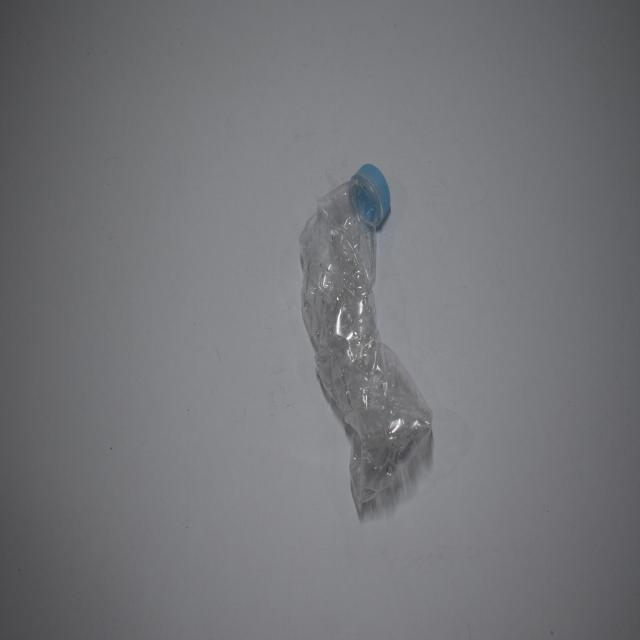bottle: (296, 144, 439, 516)
